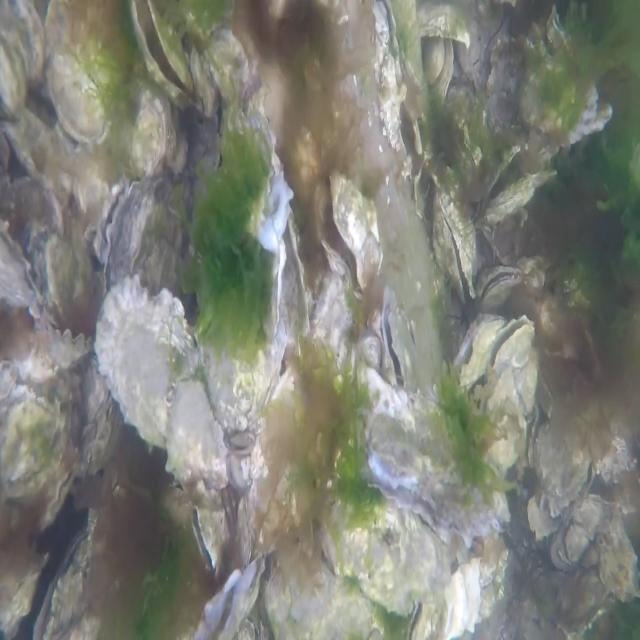Oyster-Closed: (43, 0, 130, 149), (484, 168, 558, 227), (39, 458, 81, 534), (40, 316, 94, 365)
Oyster-Indeterminate: (94, 271, 231, 483), (324, 499, 455, 614), (0, 390, 78, 503), (8, 100, 76, 202), (43, 220, 99, 312), (0, 0, 45, 106), (127, 86, 170, 172)
Oyster-Open: (204, 21, 294, 253), (368, 402, 502, 546), (33, 524, 113, 639), (317, 168, 383, 300), (130, 0, 195, 105), (476, 314, 538, 420), (434, 192, 482, 304), (94, 164, 140, 268), (276, 202, 310, 342), (0, 212, 44, 308), (454, 313, 508, 383), (381, 285, 414, 390), (190, 499, 228, 575), (480, 262, 522, 304)
